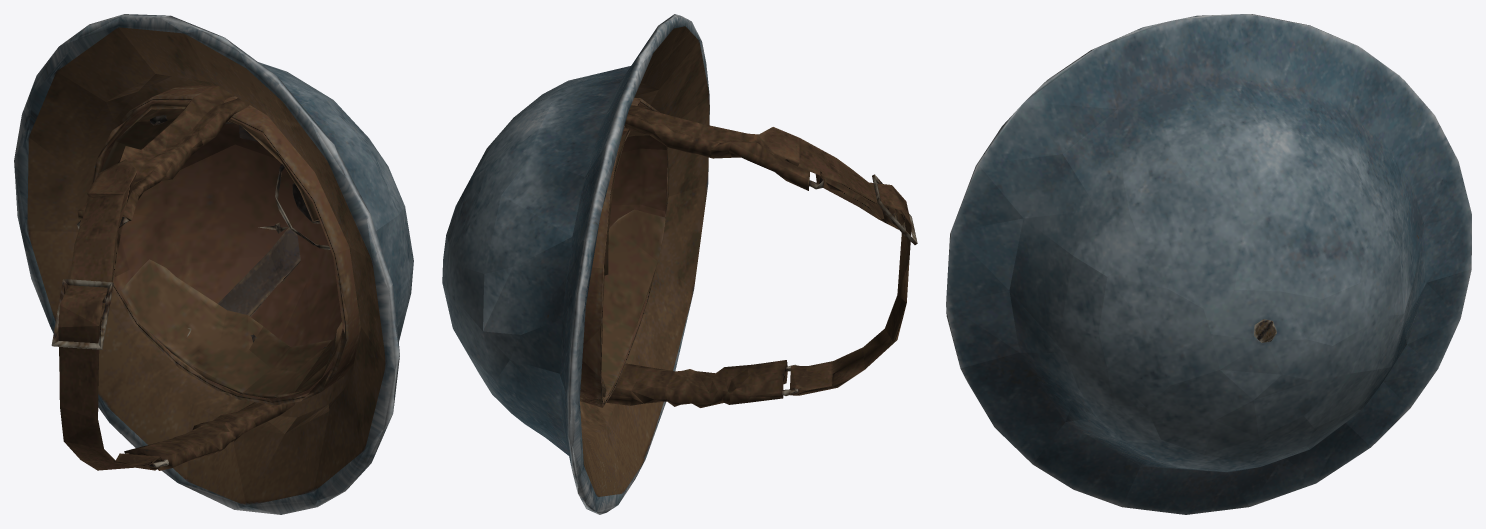
Rendered from M_BrodieHelmet.fbx.
3 renders of one model, left to right at view 1: azimuth 30°, elevation 25°; view 2: azimuth 150°, elevation 25°; view 3: azimuth 270°, elevation 25°, orthographic. The views are drawn at different scales.
Parts seen in each view (by area): view 1: BrodieHelmet; view 2: BrodieHelmet; view 3: BrodieHelmet.
Boxes of the visible parts, x1=… form: BrodieHelmet: x1=14, y1=14, x2=413, y2=514; BrodieHelmet: x1=442, y1=14, x2=917, y2=514; BrodieHelmet: x1=946, y1=14, x2=1471, y2=514.
Bounding box in the file's own units: 0.1804 × 0.2072 × 0.2041.
